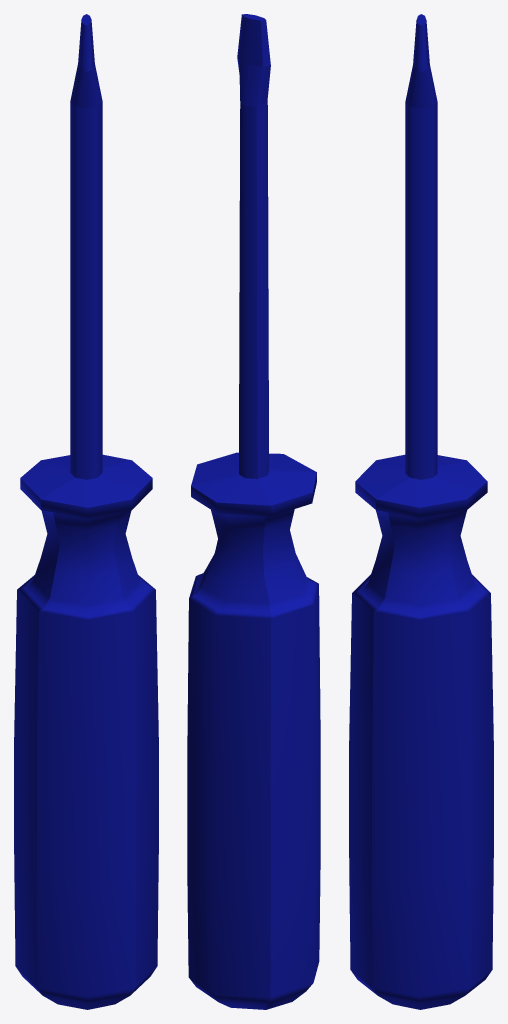
The model's file is Wrench.obj.
3 views of the same model, side by side, from view 1: azimuth 90°, elevation 25°; view 2: azimuth 150°, elevation 25°; view 3: azimuth 270°, elevation 25° (orthographic).
Parts seen in each view (by area): view 1: ScrewDriverMesh; view 2: ScrewDriverMesh; view 3: ScrewDriverMesh.
Part boxes in pixels (<box>): ScrewDriverMesh: <box>14,14,158,1009</box>; ScrewDriverMesh: <box>187,14,320,1009</box>; ScrewDriverMesh: <box>349,14,493,1009</box>.
Bounding box in the file's own units: 1.04 × 8.08 × 1.09.
